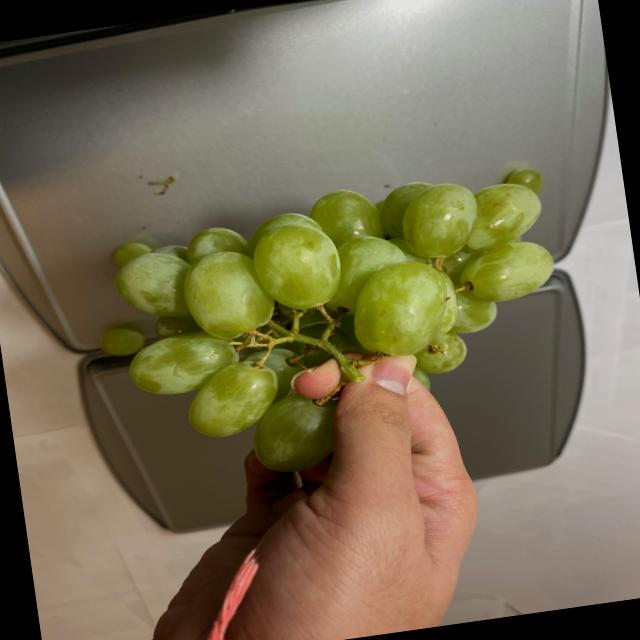grapes: (88, 180, 582, 494)
